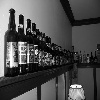beer: (5, 6, 19, 76)
